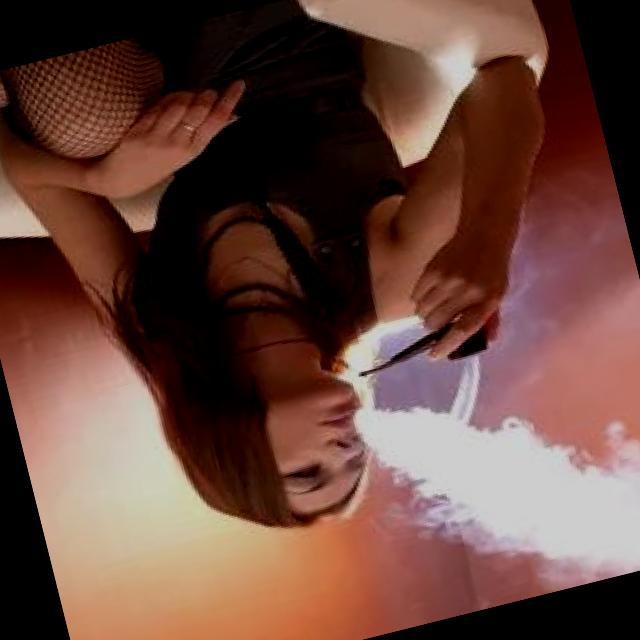cigarette: (320, 308, 503, 404)
